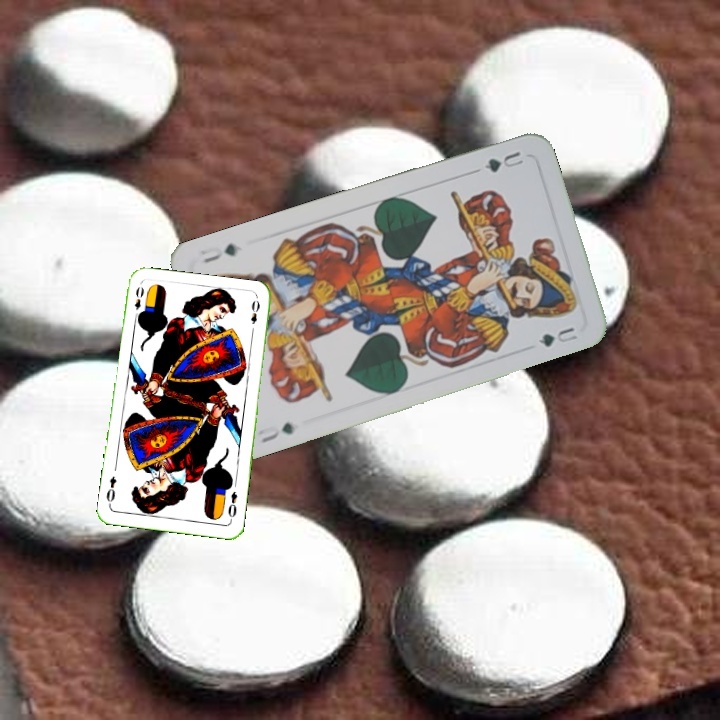EO: (130, 283, 146, 321), (224, 487, 240, 523)
GU: (480, 147, 526, 175), (253, 418, 297, 446)
